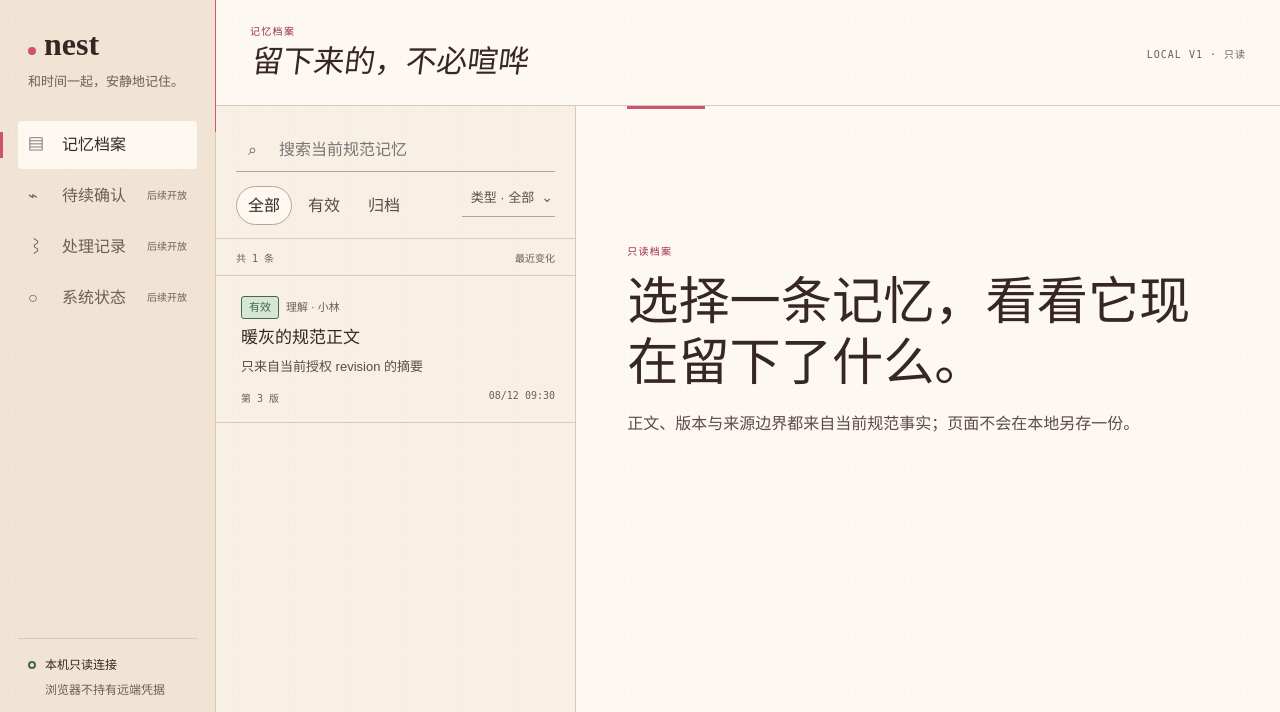
Test: 永久删除原型接线 › 点击前删除请求为 0，点击永久删除后 preview 恰 1 次
What coordinates should you click on to do the following:
click the button "有效 理解 · 小林 暖灰的规范正文 只来自当前授权 revision 的摘要 第 3 版 08/12 09:30"
I would click on:
 (260, 308)
Its box is top-left (216, 276), bottom-right (575, 423).
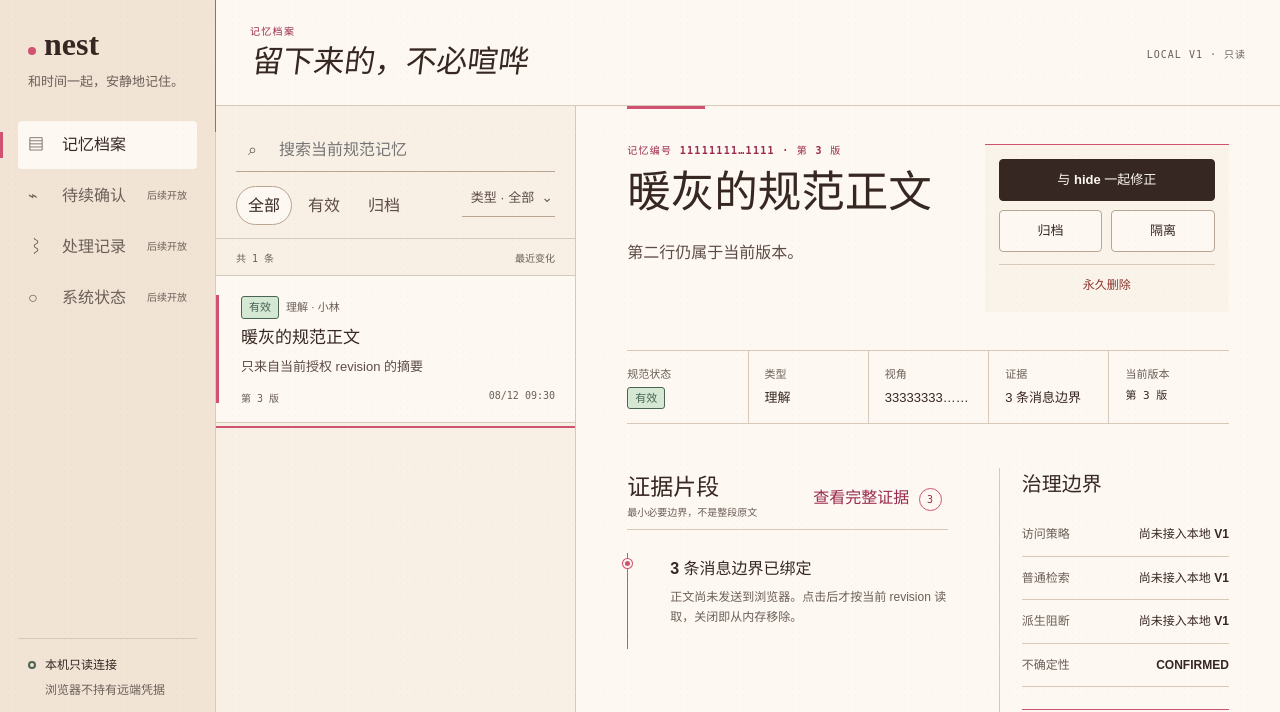
What coordinates should you click on to do the following:
click the button "永久删除"
I would click on:
 (1107, 281)
Its box is top-left (999, 264), bottom-right (1215, 298).
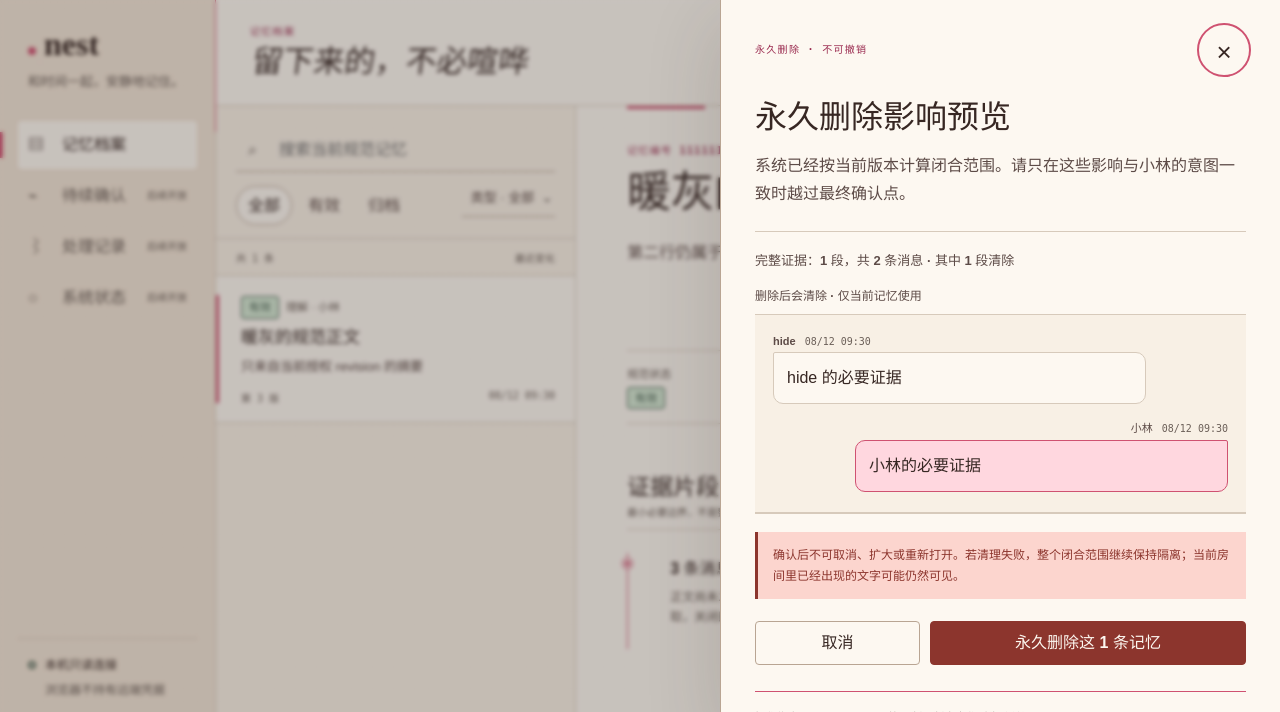
Result: the text "完整证据：1 段，共 2 条消息 · 其中 1 段清除" is shown at top-left (755, 253), bottom-right (1014, 268)
